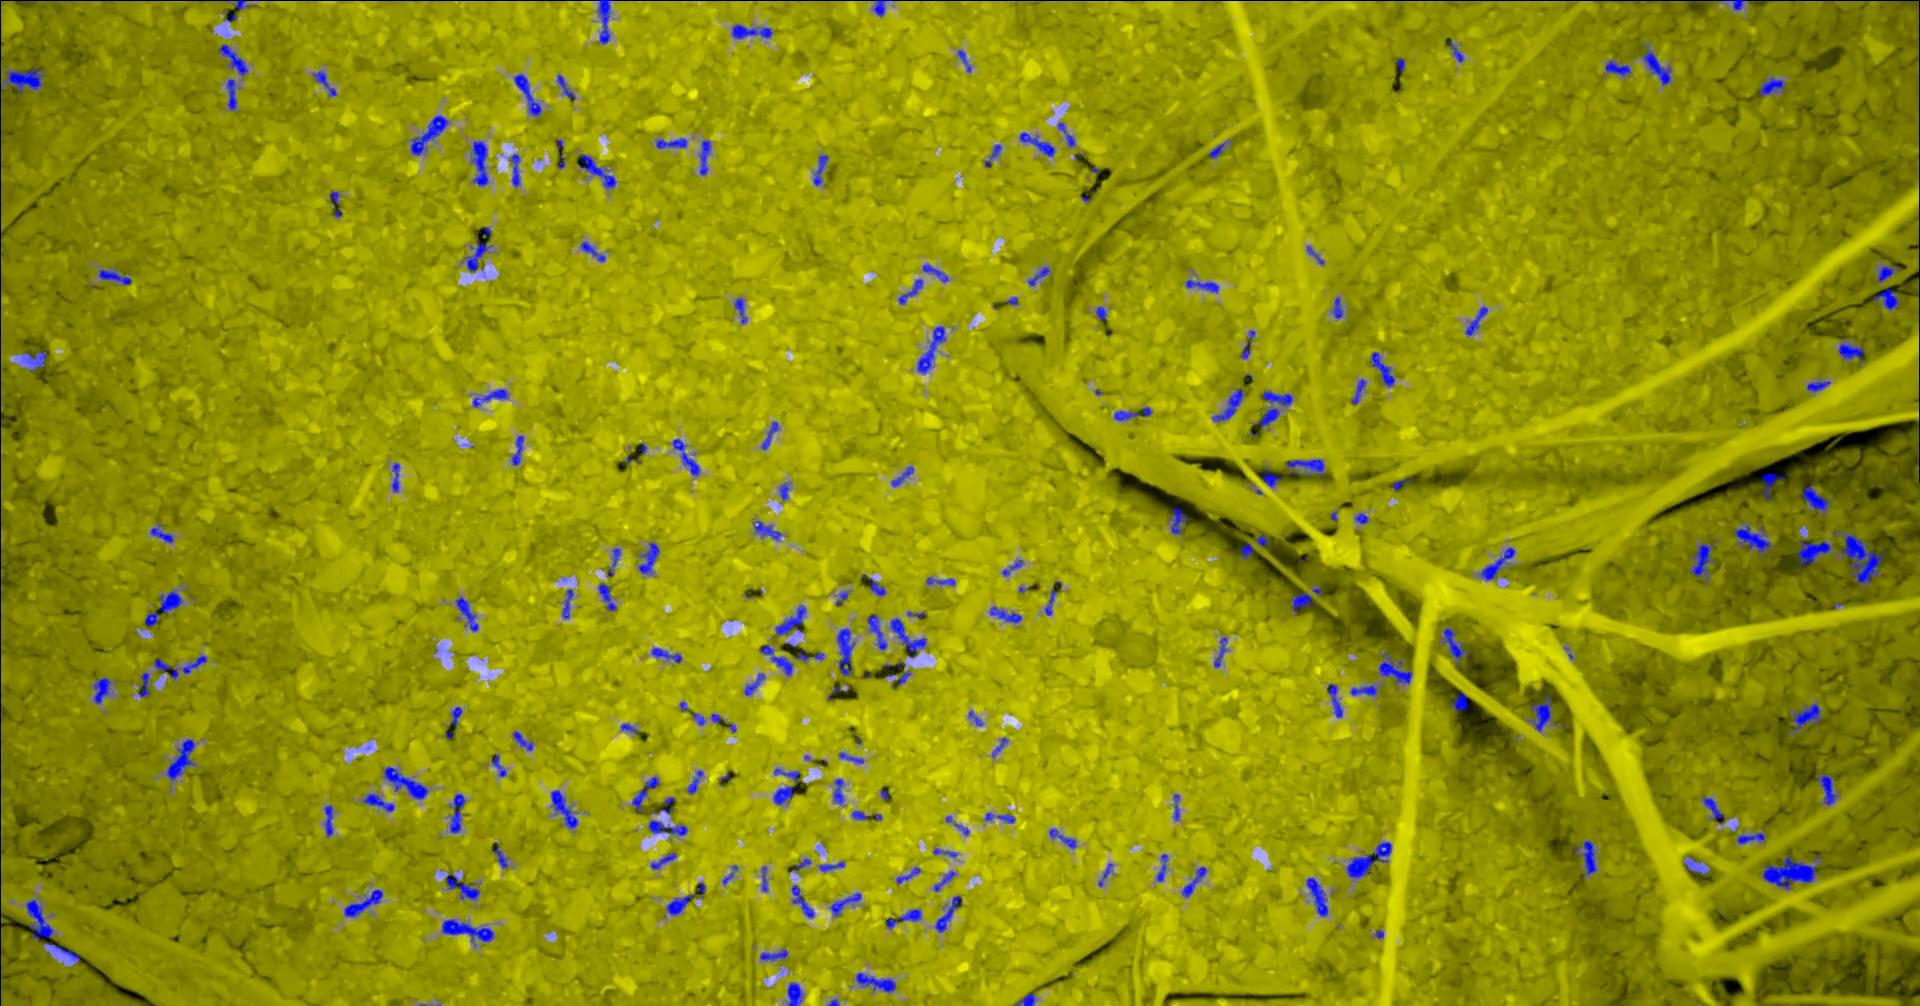ant: (25, 899, 79, 962), (1761, 855, 1817, 888), (1345, 841, 1390, 878), (410, 116, 448, 155), (0, 69, 43, 103), (441, 918, 493, 946), (383, 766, 427, 799), (916, 325, 945, 373), (1253, 390, 1291, 427), (143, 589, 182, 626), (889, 619, 926, 657), (665, 882, 705, 915), (152, 655, 206, 680), (165, 738, 196, 780), (578, 154, 615, 188), (513, 72, 541, 116), (1733, 525, 1771, 554), (1481, 547, 1514, 580), (550, 789, 577, 828), (343, 889, 382, 916), (1211, 387, 1243, 420), (1378, 652, 1411, 683), (1641, 50, 1670, 85), (759, 644, 792, 674), (1443, 627, 1468, 667), (444, 873, 480, 901), (672, 438, 698, 475), (935, 895, 961, 932), (1690, 542, 1714, 583), (631, 776, 658, 812), (593, 0, 615, 43), (775, 605, 805, 635), (218, 43, 248, 75), (1797, 540, 1831, 567), (836, 627, 855, 674), (1018, 132, 1054, 156), (1370, 351, 1394, 386), (1572, 840, 1596, 875), (1305, 876, 1327, 916), (465, 238, 490, 271), (855, 972, 895, 992), (1801, 485, 1829, 514), (1291, 586, 1321, 614), (1792, 702, 1821, 730), (470, 140, 488, 185), (455, 596, 477, 631), (1528, 695, 1550, 730), (791, 884, 814, 917), (1181, 866, 1206, 895), (830, 892, 861, 916), (885, 908, 921, 929), (867, 614, 886, 650), (1285, 459, 1324, 476), (1815, 774, 1836, 805), (637, 542, 659, 573), (472, 387, 507, 406), (897, 278, 922, 304), (1761, 473, 1785, 499), (1465, 306, 1487, 335), (731, 23, 772, 38), (750, 520, 781, 540), (450, 793, 465, 833), (312, 70, 337, 95), (1872, 288, 1898, 310), (1048, 828, 1076, 848), (362, 793, 394, 810), (648, 821, 687, 835), (1326, 683, 1342, 716), (1112, 406, 1150, 420), (759, 420, 778, 448), (597, 582, 616, 610), (989, 606, 1021, 622), (1702, 796, 1724, 819), (98, 269, 131, 285), (580, 241, 604, 262), (556, 74, 575, 99), (811, 154, 827, 185), (922, 263, 947, 282), (1837, 343, 1863, 362), (20, 351, 46, 370), (1723, 0, 1770, 10), (891, 465, 913, 486), (650, 647, 681, 662), (744, 672, 764, 695), (1170, 506, 1186, 533), (149, 523, 173, 542), (1759, 77, 1784, 95), (93, 677, 110, 702), (1683, 856, 1708, 874), (1604, 60, 1630, 76), (1027, 265, 1049, 286), (933, 870, 955, 890), (945, 815, 968, 835), (1057, 122, 1074, 146), (1239, 330, 1255, 358), (1185, 279, 1218, 292), (650, 852, 676, 869), (698, 140, 710, 175), (895, 866, 919, 883), (795, 647, 823, 661), (510, 434, 523, 465), (1261, 467, 1281, 486), (1213, 636, 1225, 667), (512, 730, 532, 749), (773, 768, 799, 784), (984, 144, 1001, 166), (686, 770, 702, 793), (786, 982, 803, 1005), (1097, 862, 1112, 887), (1001, 559, 1022, 575), (1351, 379, 1365, 404), (607, 547, 620, 575), (493, 842, 507, 868), (655, 137, 686, 149), (561, 588, 573, 619), (984, 812, 1015, 823), (1450, 691, 1468, 710), (773, 786, 792, 804), (226, 77, 236, 111), (509, 152, 519, 185), (1736, 832, 1765, 843), (1877, 265, 1898, 281), (329, 191, 342, 216), (1044, 589, 1057, 615), (838, 751, 863, 763), (491, 753, 505, 776), (1156, 854, 1167, 882), (759, 949, 787, 960), (1446, 43, 1463, 62), (894, 666, 910, 685), (990, 737, 1007, 756), (1350, 683, 1377, 695), (957, 50, 971, 71), (869, 577, 885, 594), (872, 0, 891, 15), (734, 297, 745, 323), (1015, 991, 1035, 1005), (323, 804, 331, 836), (137, 672, 149, 696), (832, 779, 843, 803), (1208, 142, 1225, 158), (818, 861, 844, 871), (1239, 542, 1255, 559), (659, 796, 674, 813), (926, 577, 954, 586), (1332, 296, 1343, 318), (1806, 381, 1830, 391), (933, 847, 957, 857), (1390, 478, 1410, 490), (391, 462, 399, 492), (450, 706, 461, 725), (227, 0, 250, 9), (620, 723, 637, 734), (1255, 533, 1269, 547), (778, 481, 789, 500), (1172, 793, 1178, 821), (1095, 306, 1106, 320), (1354, 512, 1368, 523), (851, 810, 869, 819), (761, 866, 767, 890), (1917, 420, 1919, 480)
